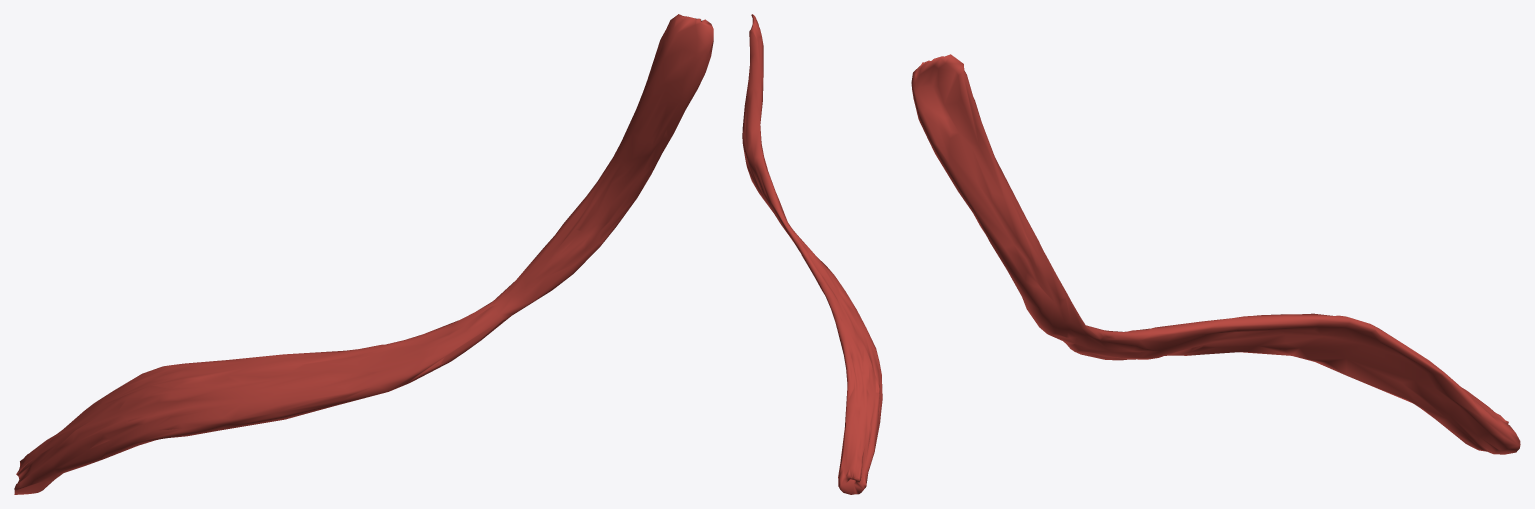
Rendered from musculos-omohyoid-muscle-r.glb.
3 renders of one model, left to right at view 1: azimuth 30°, elevation 25°; view 2: azimuth 150°, elevation 25°; view 3: azimuth 270°, elevation 25°, orthographic. The views are drawn at different scales.
Parts seen in each view (by area): view 1: Omohyoid muscle.r; view 2: Omohyoid muscle.r; view 3: Omohyoid muscle.r.
Boxes of the visible parts, <box> form: Omohyoid muscle.r: <box>14,14,713,494</box>; Omohyoid muscle.r: <box>742,14,882,494</box>; Omohyoid muscle.r: <box>911,54,1520,454</box>.
Size of the model in its own units: 0.0907 by 0.1065 by 0.0935.
